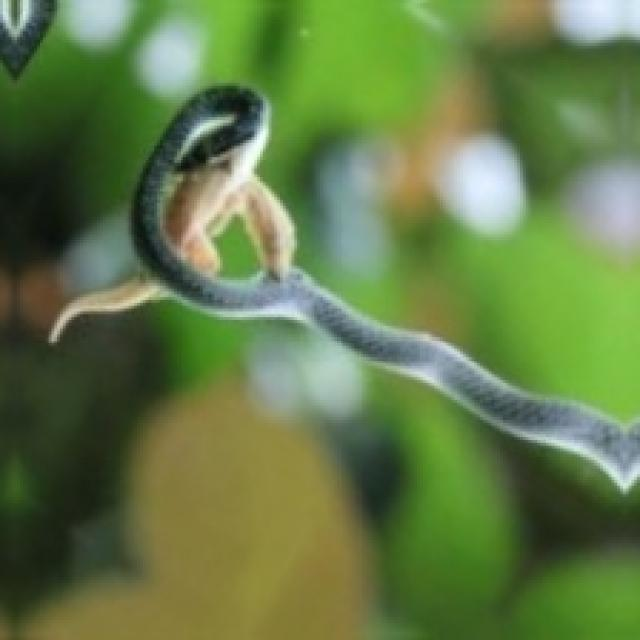paradise tree snake: (49, 86, 637, 489)
